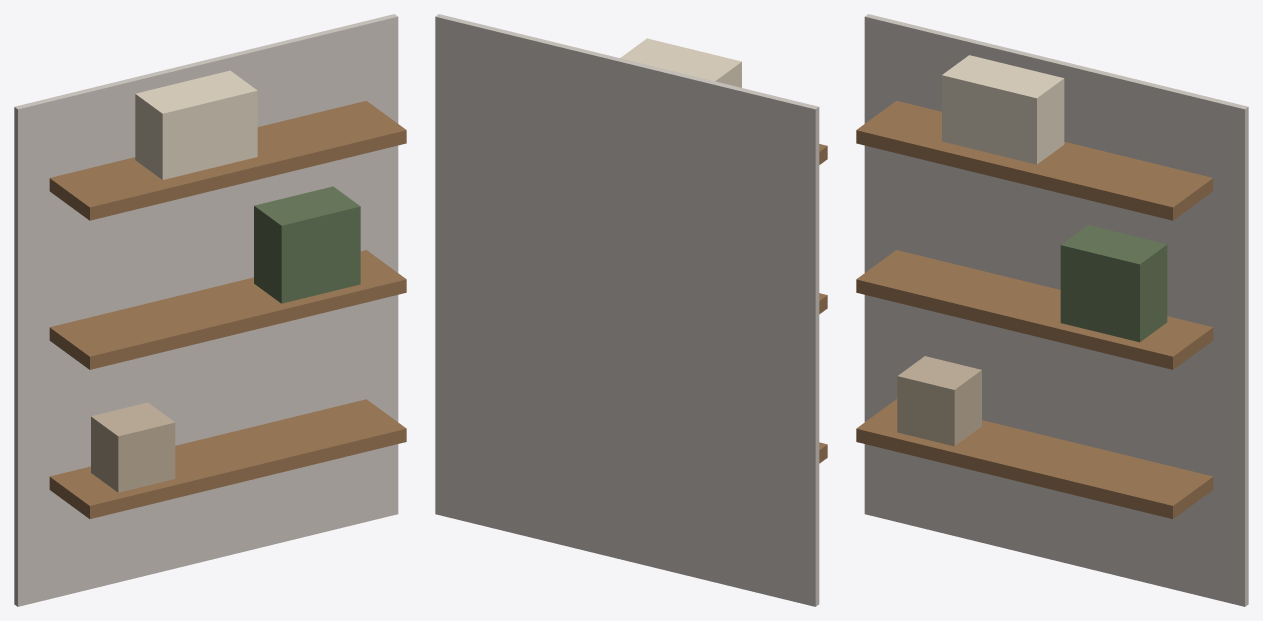
The model's file is shelf_wall.glb.
3 views of the same model, side by side, from view 1: azimuth 30°, elevation 25°; view 2: azimuth 150°, elevation 25°; view 3: azimuth 330°, elevation 25° (orthographic).
Parts seen in each view (by area): view 1: shelf_wall; view 2: shelf_wall; view 3: shelf_wall.
Boxes of the visible parts, bbox=[...] form: shelf_wall: bbox=[14, 14, 406, 606]; shelf_wall: bbox=[435, 14, 827, 606]; shelf_wall: bbox=[856, 14, 1248, 606].
Size of the model in its own units: 1.2 by 1.5 by 0.24.
